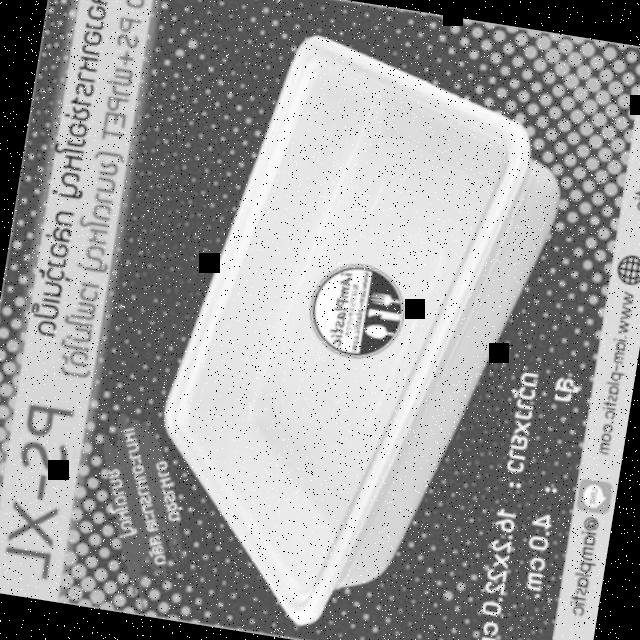plastic_box: (133, 22, 580, 640)
